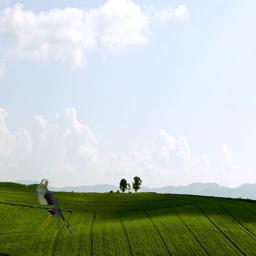Cuckoo: (34, 179, 78, 236)
